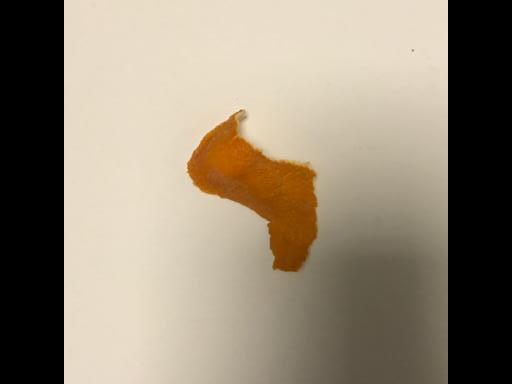trash: (187, 107, 319, 275)
